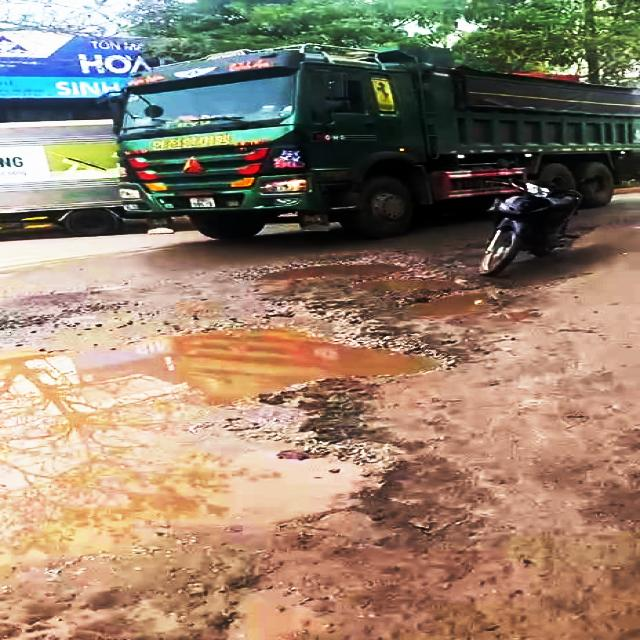pothole: (0, 321, 477, 451), (247, 259, 509, 336)
